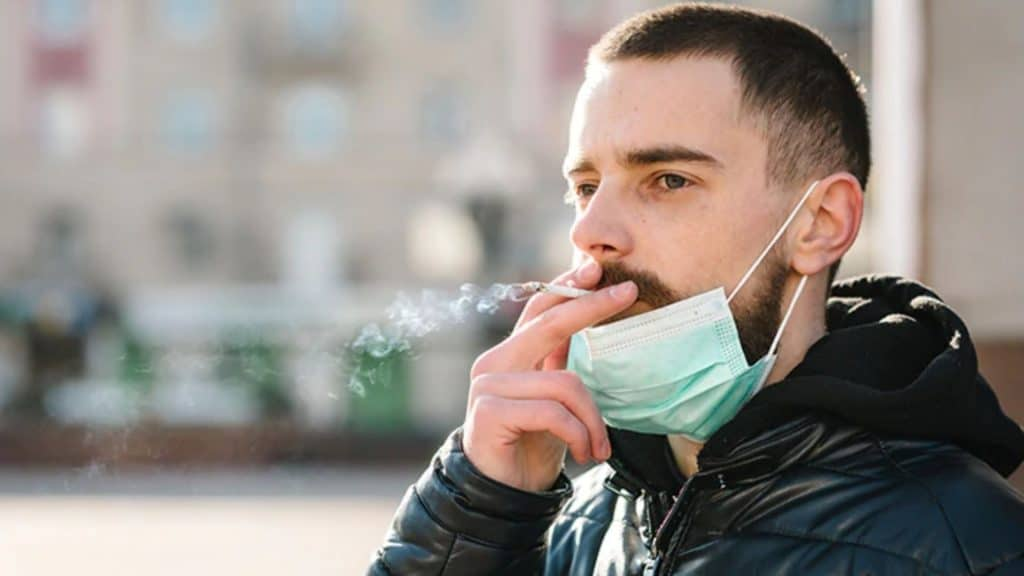with_incorrect_mask: (564, 101, 839, 440)
